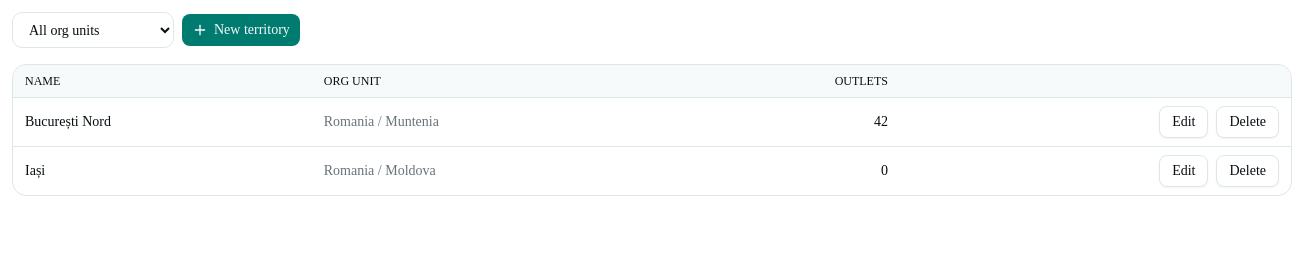
<TerritoryBrowser> › shows what the server said when a territory cannot be deleted
The image size is (1292, 273).
Expected: the table is shown, [13,65,1291,195]
Click the button with aria-label "Delete București Nord".
click(1248, 122)  # box [1216,106,1279,138]
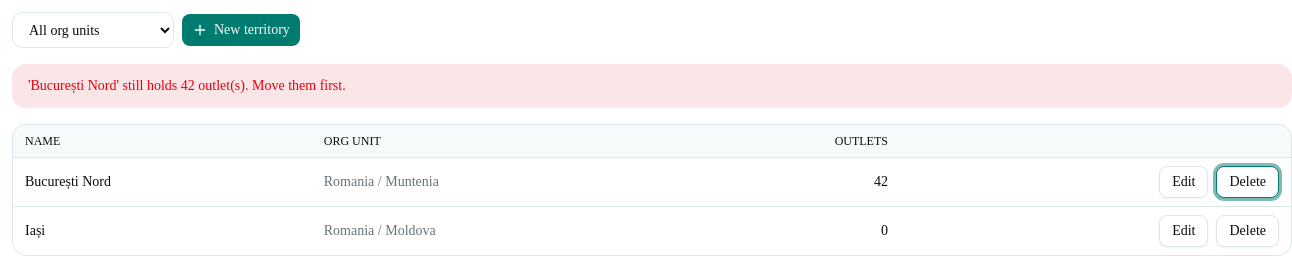
Expected: the message shows "still holds 42 outlet(s)", [28,78,346,93]
